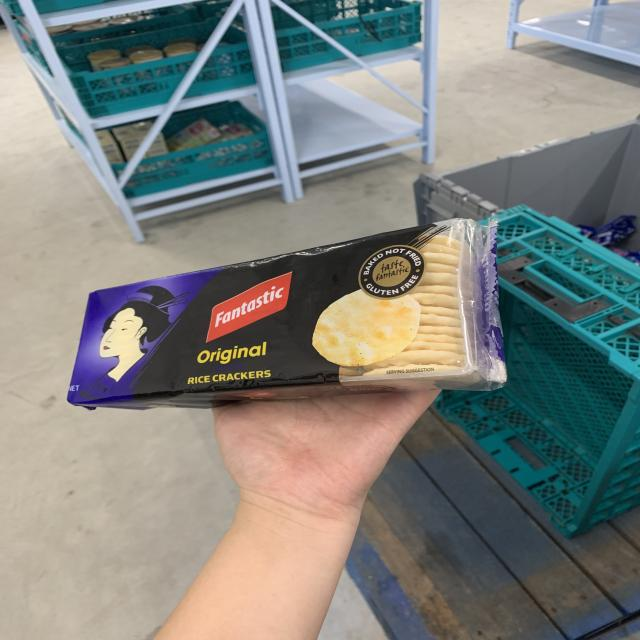object_name: (75, 280, 495, 384)
